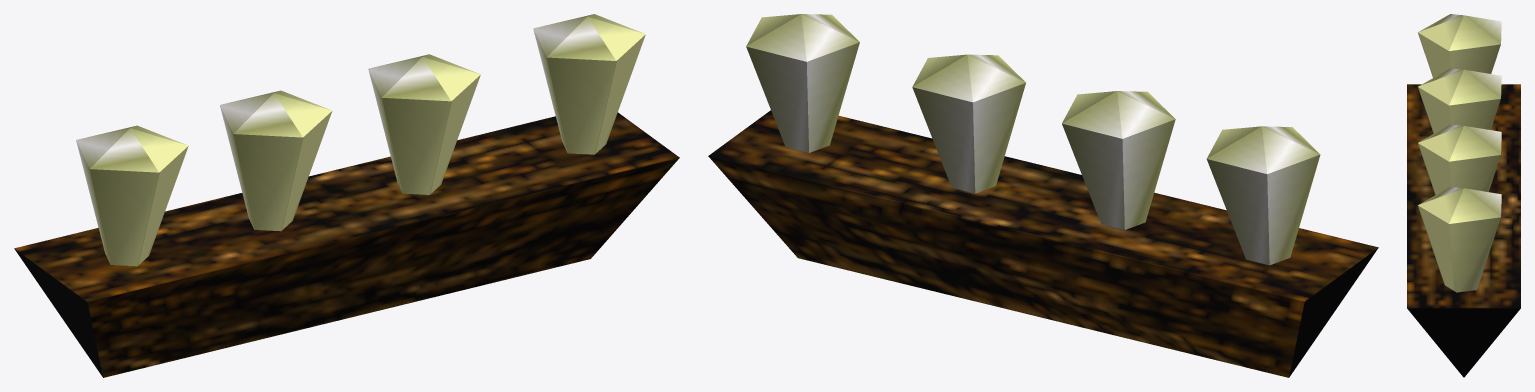
Rendered from Kabel_Lichtmast_Kopf_2599.glb.
3 views of the same model, side by side, from view 1: azimuth 30°, elevation 25°; view 2: azimuth 150°, elevation 25°; view 3: azimuth 270°, elevation 25° (orthographic). The views are drawn at different scales.
Visible parts, largest first — view 1: pCylinderShape41, pSphereShape15, pSphereShape16, pSphereShape13, pSphereShape14; view 2: pCylinderShape41, pSphereShape13, pSphereShape16, pSphereShape15, pSphereShape14; view 3: pCylinderShape41, pSphereShape16, pSphereShape15, pSphereShape14, pSphereShape13.
Boxes of the visible parts, bbox=[...] form: pCylinderShape41: bbox=[14, 112, 679, 377]; pSphereShape15: bbox=[368, 54, 480, 194]; pSphereShape16: bbox=[533, 14, 645, 154]; pSphereShape13: bbox=[76, 125, 188, 266]; pSphereShape14: bbox=[220, 90, 332, 231]; pCylinderShape41: bbox=[708, 110, 1378, 377]; pSphereShape13: bbox=[1206, 126, 1320, 265]; pSphereShape16: bbox=[746, 14, 859, 152]; pSphereShape15: bbox=[912, 54, 1025, 193]; pSphereShape14: bbox=[1062, 91, 1175, 229]; pCylinderShape41: bbox=[1407, 84, 1520, 377]; pSphereShape16: bbox=[1418, 187, 1501, 292]; pSphereShape15: bbox=[1418, 124, 1501, 194]; pSphereShape14: bbox=[1418, 68, 1501, 133]; pSphereShape13: bbox=[1418, 14, 1501, 77].
Bounding box in the file's own units: 0.1601 × 0.0628 × 0.0344.
Materials: 5 (5 with a texture image).
